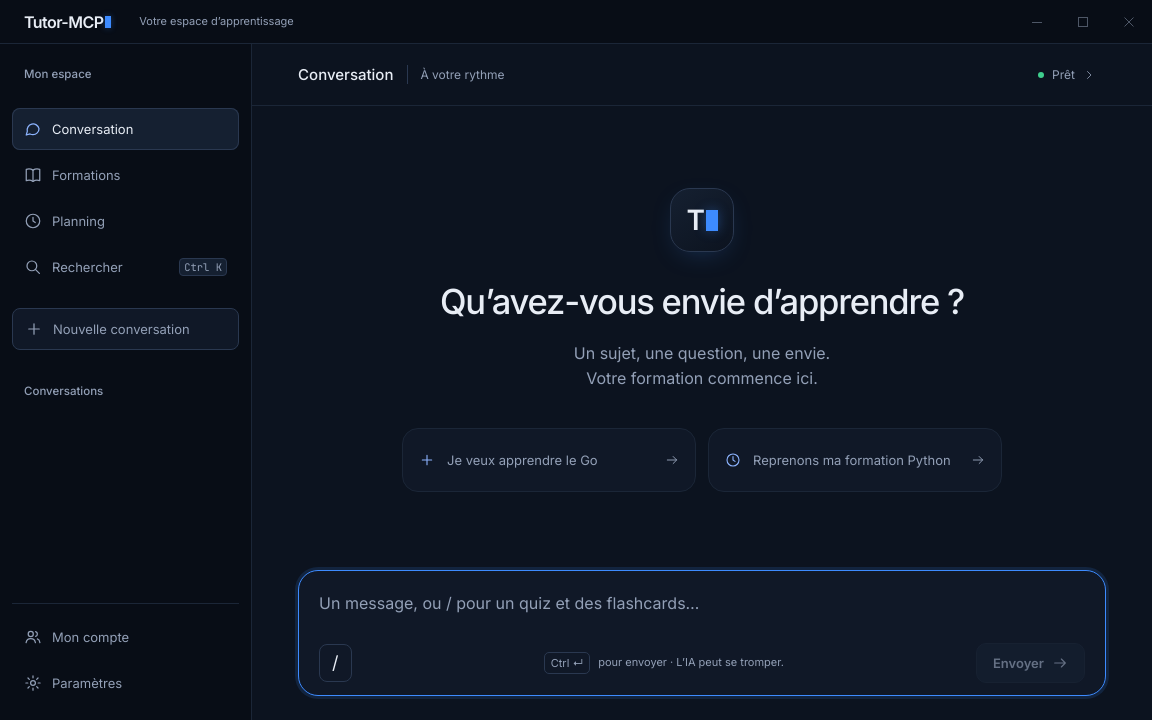
Test case: conserve le reçu pending d’un effacement accepté lorsque le serveur retire ensuite l’accès au suivi
Click the button "Mon compte": {"x": 126, "y": 637} left=12, top=616, right=239, bottom=658
(page scrolled)
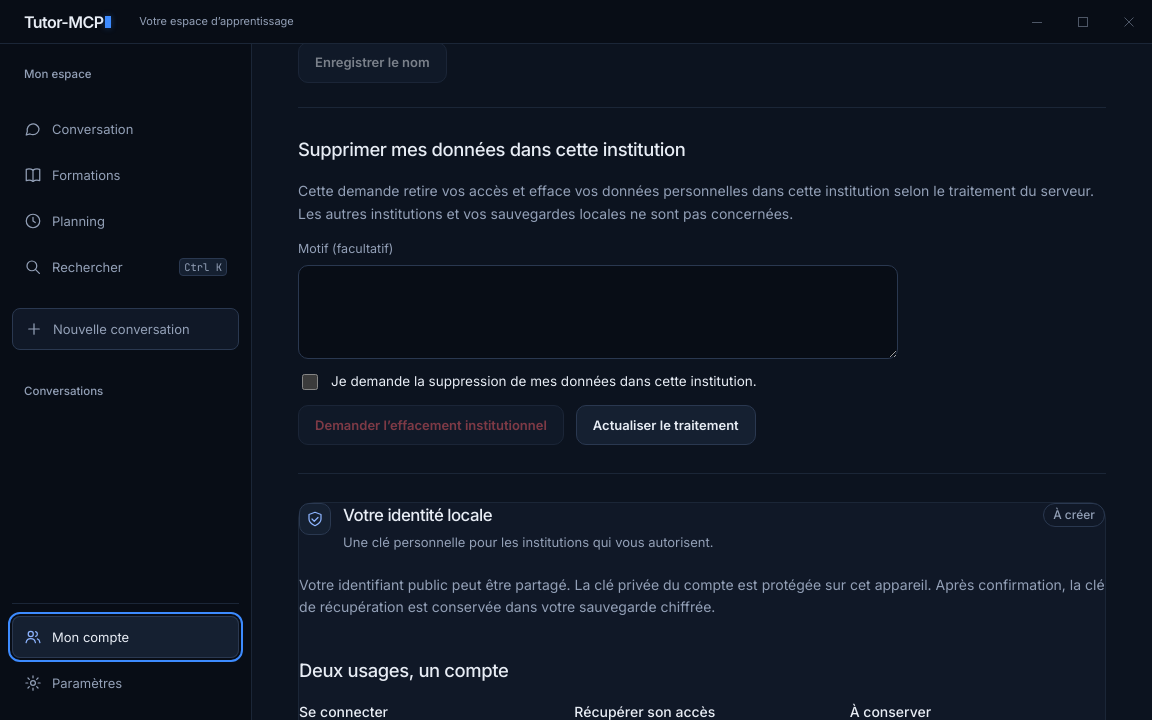
Result: the checkbox labelled "Je demande la suppression de mes données dans cette institution." is enabled
Click the checkbox labelled "Je demande la suppression de mes données dans cette institution.": {"x": 310, "y": 382} left=302, top=374, right=318, bottom=390
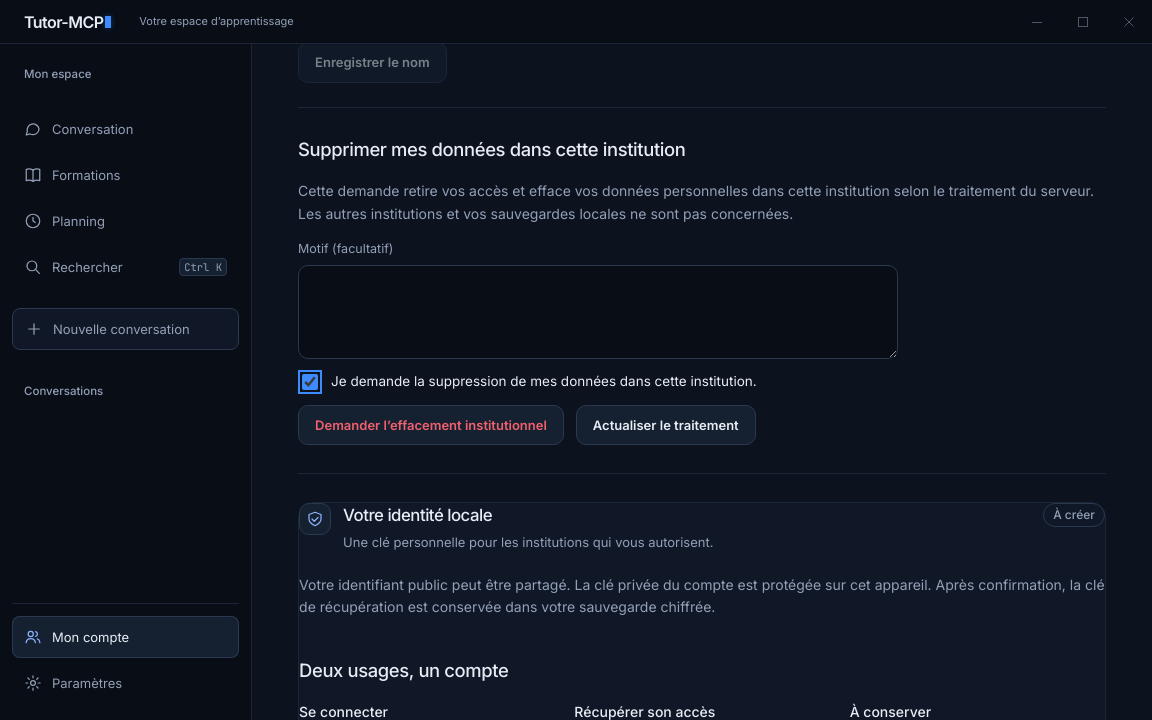
Click the button "Demander l’effacement institutionnel": {"x": 431, "y": 425} left=298, top=405, right=564, bottom=445
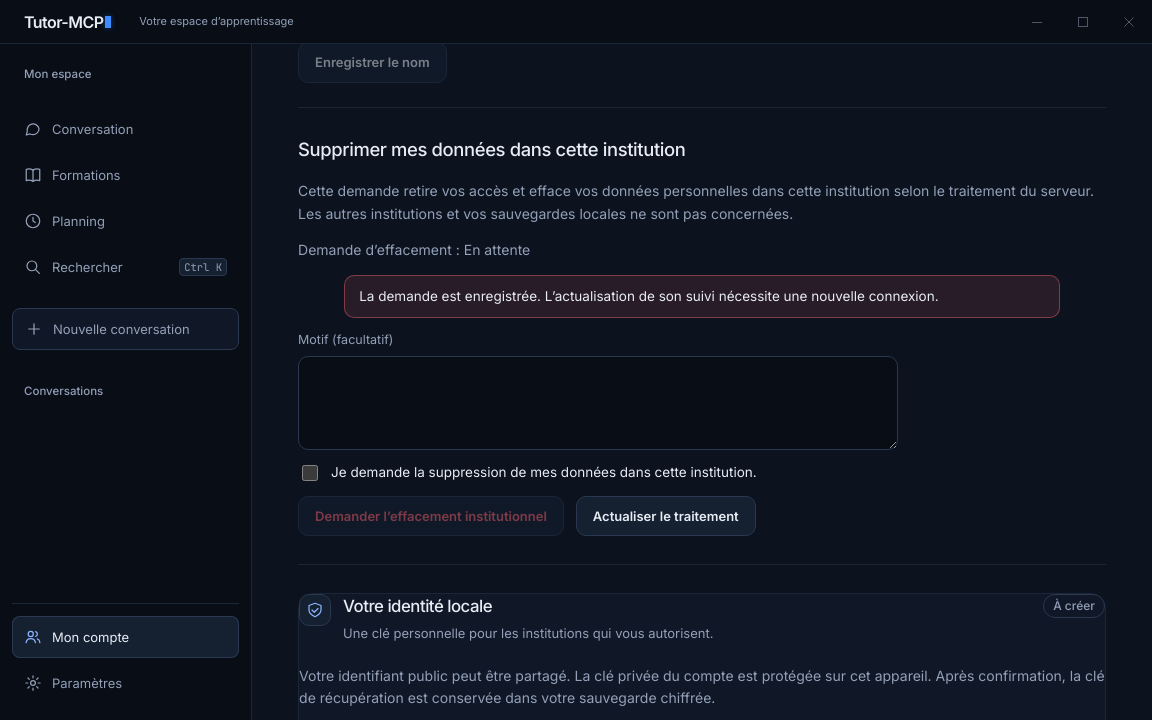
Result: the text "Demande d’effacement : En attente" is shown at left=298, top=241, right=530, bottom=258
